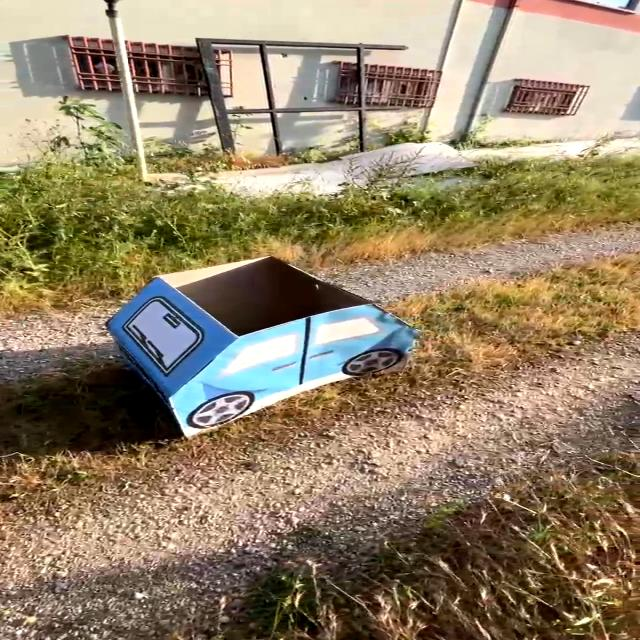blue_car: (51, 238, 468, 451)
